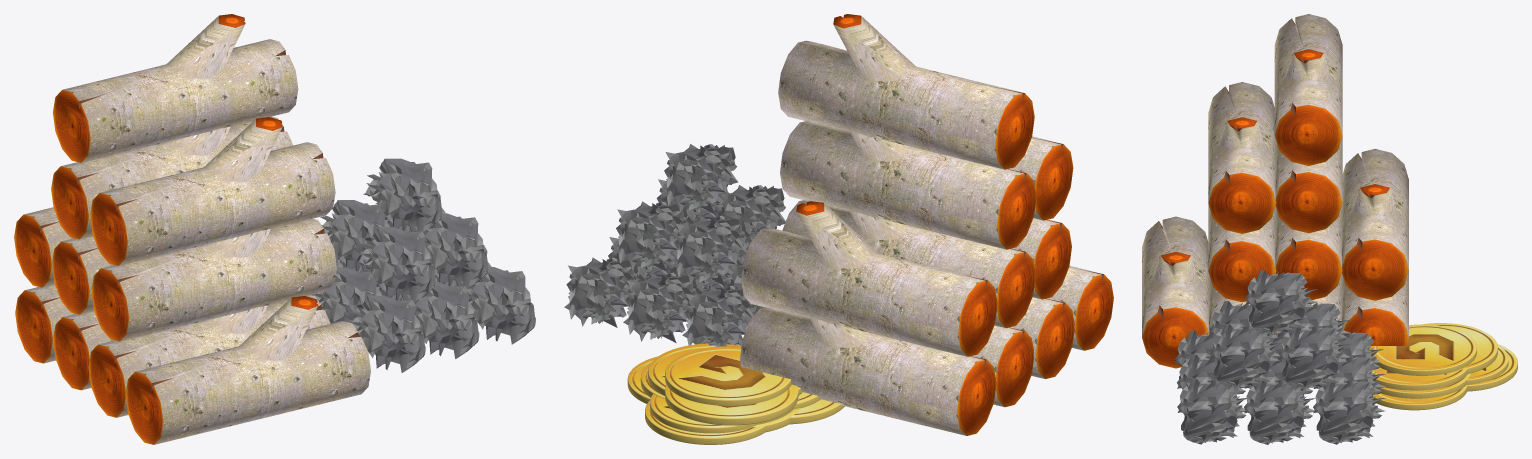
File: ManufacturingWorkbench_INIT.glb
The picture shows the model from 3 angles, left to right: view 1: azimuth 30°, elevation 25°; view 2: azimuth 150°, elevation 25°; view 3: azimuth 270°, elevation 25°; orthographic projection. The views are drawn at different scales.
Parts seen in each view (by area): view 1: ManufacturingWorkbench_INIT; view 2: ManufacturingWorkbench_INIT; view 3: ManufacturingWorkbench_INIT.
Part boxes in pixels (left/top/right/bottom): ManufacturingWorkbench_INIT: left=14, top=14, right=535, bottom=444; ManufacturingWorkbench_INIT: left=564, top=14, right=1113, bottom=444; ManufacturingWorkbench_INIT: left=1142, top=14, right=1517, bottom=444.
Size of the model in its own units: 1.06 by 0.8171 by 0.9474.
5 materials, 4 textured.
